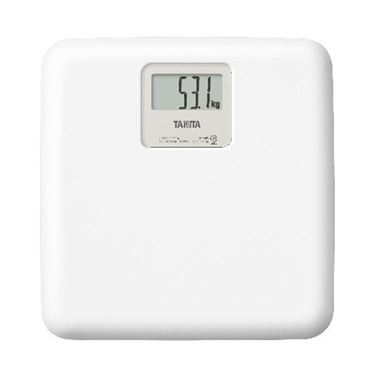LCD: (149, 72, 224, 112)
